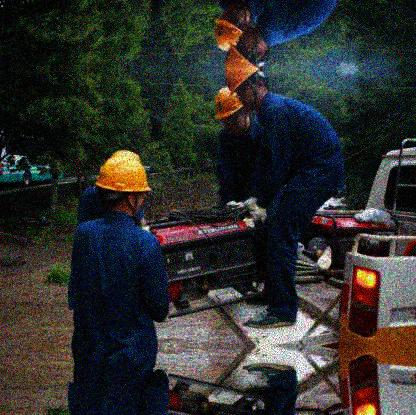helmet: (96, 155, 156, 217), (223, 27, 269, 70), (214, 2, 251, 51), (223, 70, 268, 110), (214, 87, 250, 136)
